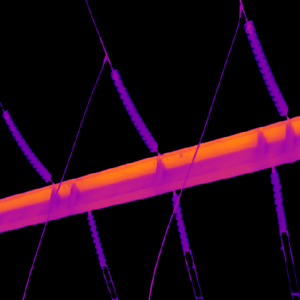insulator: (244, 16, 289, 117), (110, 66, 158, 154), (0, 108, 52, 183), (85, 210, 106, 270), (170, 193, 189, 253), (269, 171, 286, 233)
